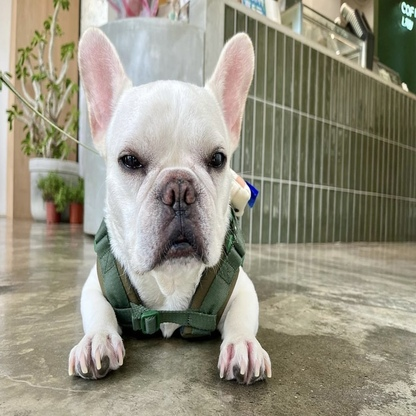bulldog: (62, 21, 276, 388)
